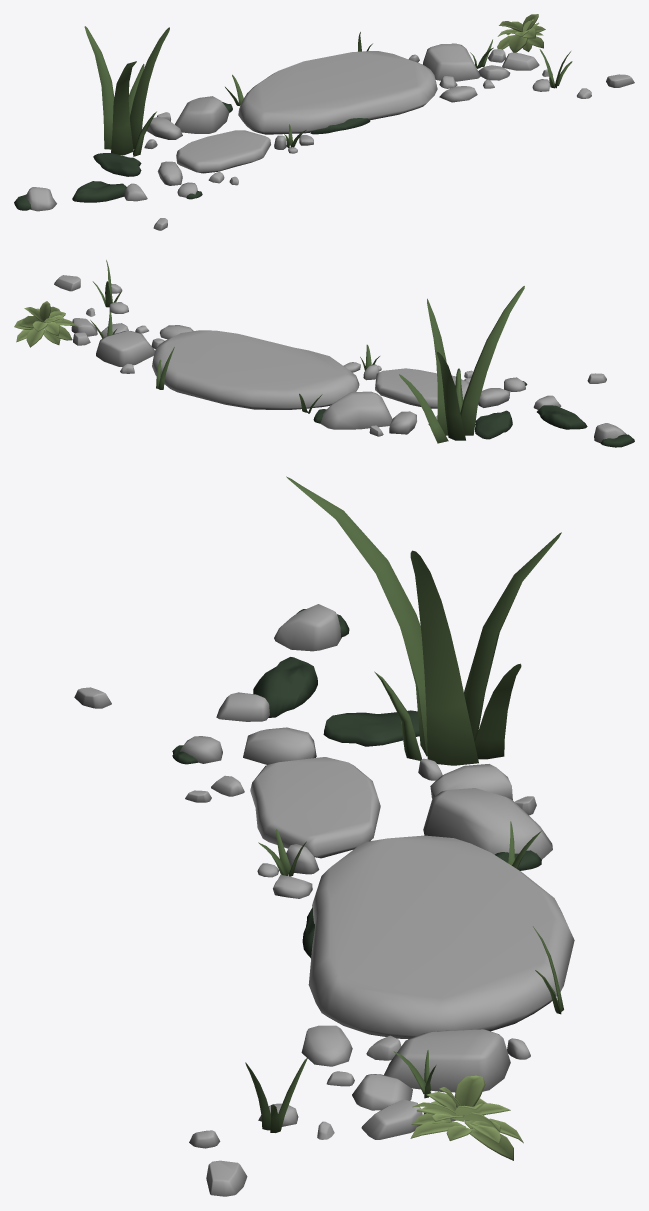
The model's file is SM_SupportPB_04.fbx.
3 views of the same model, one above another, from view 1: azimuth 30°, elevation 25°; view 2: azimuth 150°, elevation 25°; view 3: azimuth 270°, elevation 25° (orthographic). The views are drawn at different scales.
Visible parts, largest first — view 1: SM_Rocks_04, SM_Grass_02, SM_MossPatch_01a, SM_Bush_3; view 2: SM_Rocks_04, SM_Grass_02, SM_MossPatch_01a, SM_Bush_3; view 3: SM_Rocks_04, SM_Grass_02, SM_MossPatch_01a, SM_Bush_3.
Part boxes in pixels (left/top/right/bottom): SM_Rocks_04: left=25, top=43, right=634, bottom=230; SM_Grass_02: left=84, top=26, right=572, bottom=156; SM_MossPatch_01a: left=14, top=102, right=370, bottom=210; SM_Bush_3: left=497, top=14, right=545, bottom=52; SM_Rocks_04: left=54, top=275, right=626, bottom=443; SM_Grass_02: left=90, top=260, right=524, bottom=443; SM_MossPatch_01a: left=313, top=381, right=634, bottom=447; SM_Bush_3: left=14, top=301, right=76, bottom=347; SM_Rocks_04: left=74, top=604, right=574, bottom=1196; SM_Grass_02: left=245, top=476, right=563, bottom=1132; SM_MossPatch_01a: left=172, top=609, right=541, bottom=958; SM_Bush_3: left=410, top=1075, right=523, bottom=1160.
Size of the model in its own units: 42.53 by 8.55 by 15.48.
